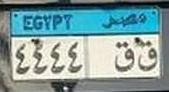4: (13, 42, 31, 80), (66, 41, 83, 75), (31, 42, 47, 78), (49, 41, 65, 76)
qaaf: (112, 39, 135, 72), (138, 39, 158, 74)
